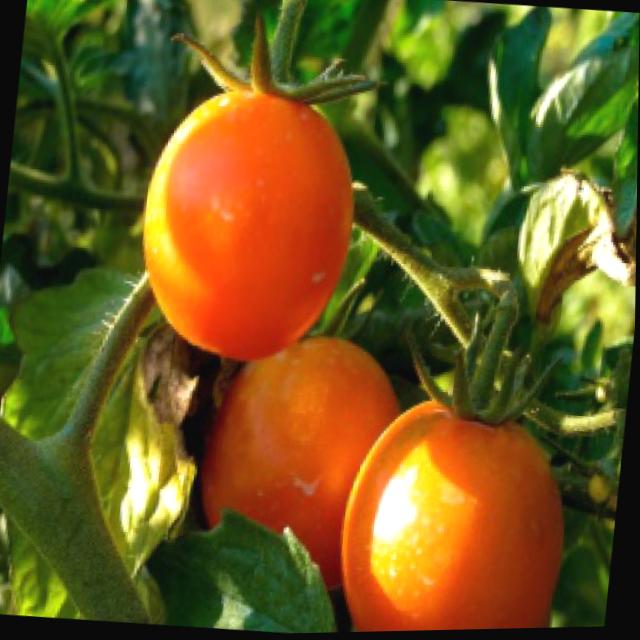tomato: (134, 84, 367, 373), (194, 329, 411, 599), (335, 401, 574, 634)
